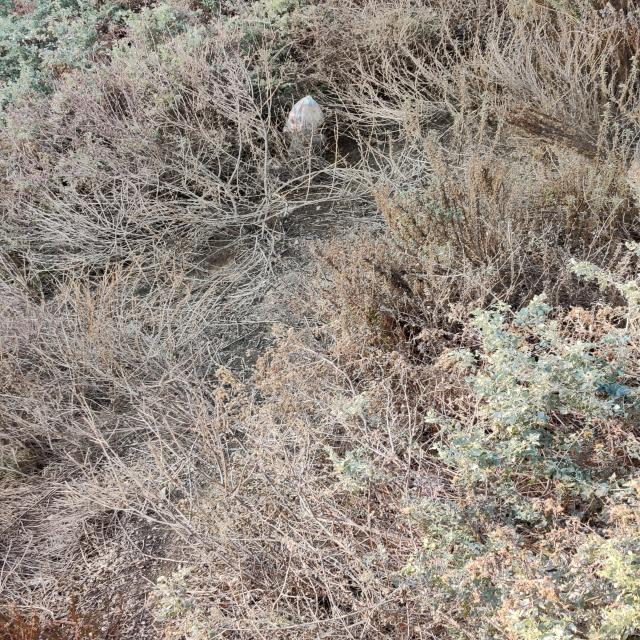litter: (277, 89, 335, 154)
